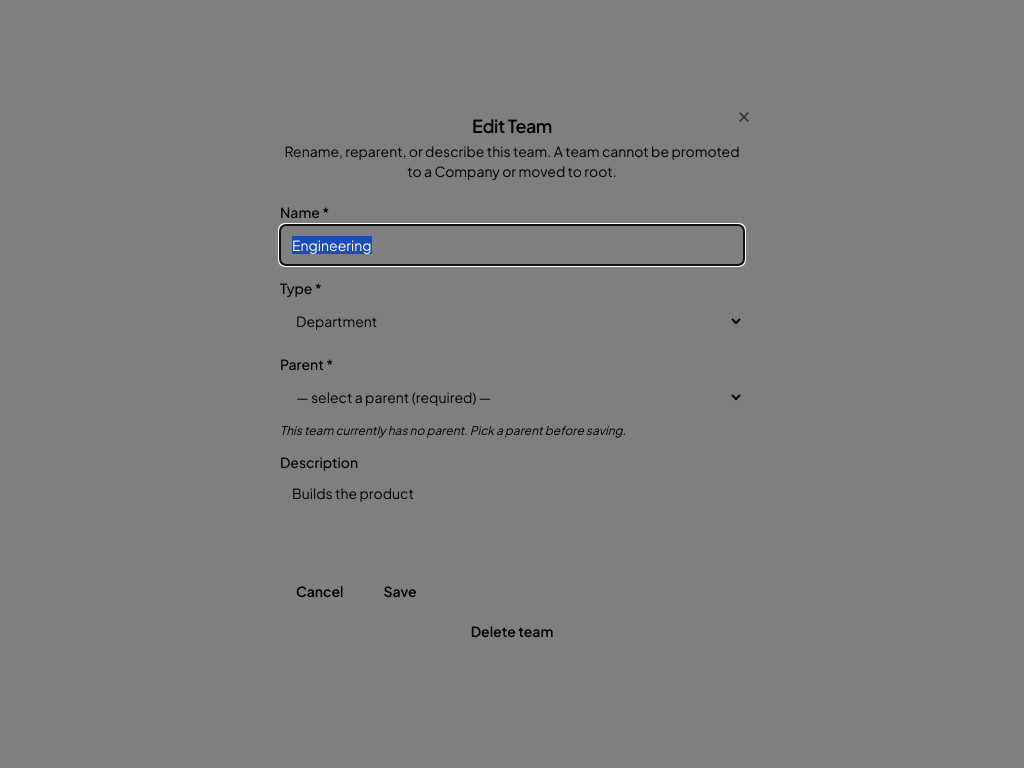
EditTeamModal › flag-off save retains the legacy shared in-flight lock
Select "Marketing" in the dropdown with test id "select-parent" at (512, 397), box [280, 377, 744, 417]
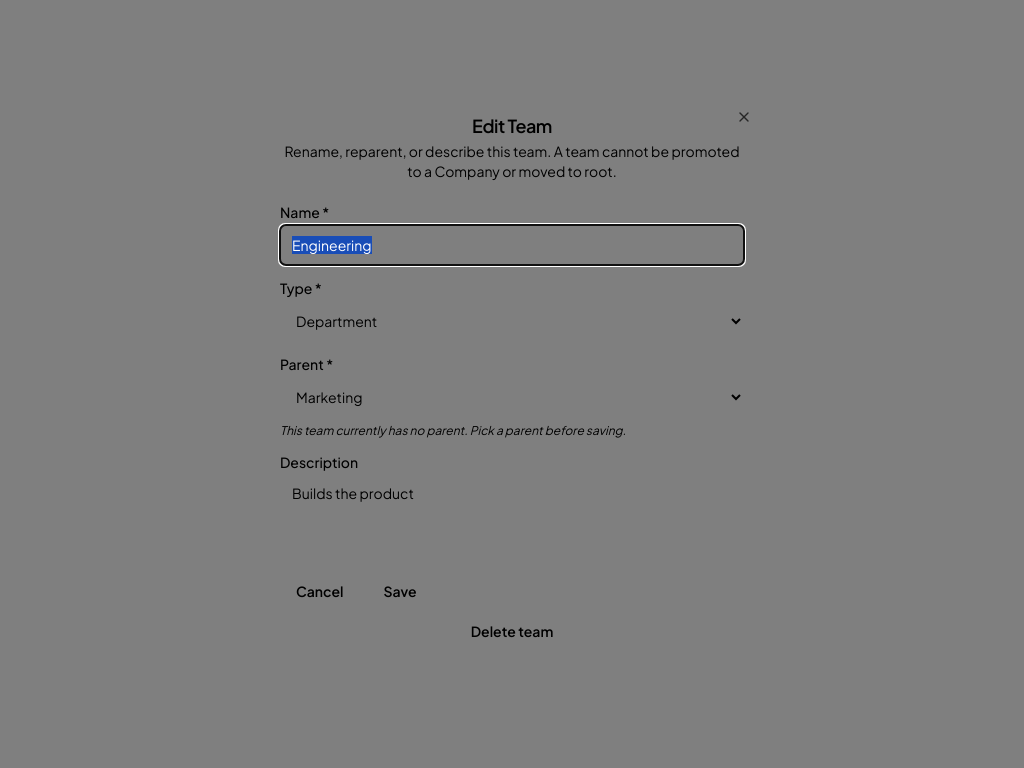
Click the button "Save" at (400, 591), box [368, 571, 432, 611]
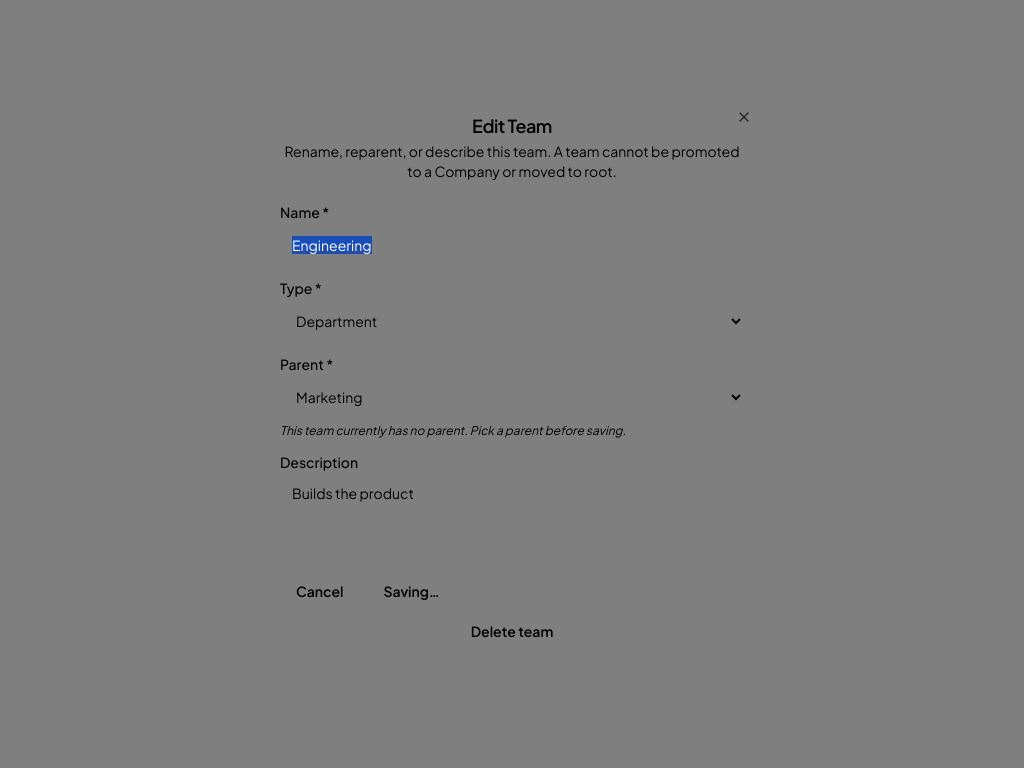
expect the button "Delete team" is disabled: met, box [280, 611, 744, 651]
expect the button "Saving…" is disabled: met, box [368, 571, 455, 611]
